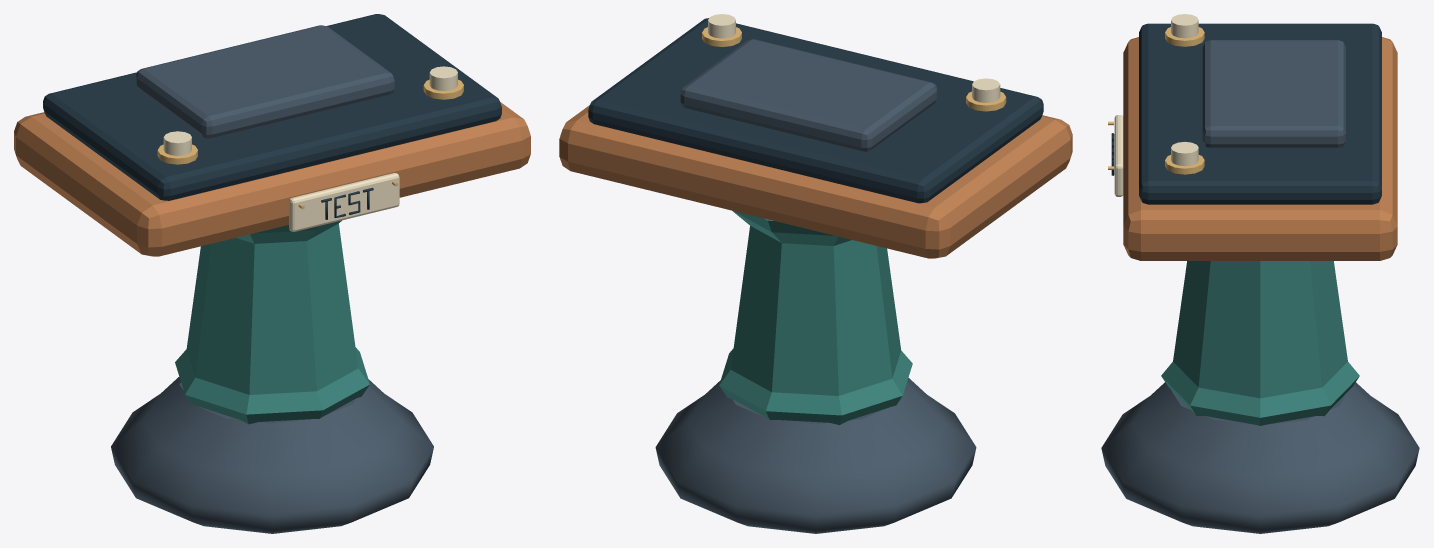
3 views of the same model, side by side, from view 1: azimuth 30°, elevation 25°; view 2: azimuth 150°, elevation 25°; view 3: azimuth 270°, elevation 25° (orthographic).
Parts seen in each view (by area): view 1: PR029 workshop surfaces; view 2: PR029 workshop surfaces; view 3: PR029 workshop surfaces.
Boxes of the visible parts, x1,y1,x2,y2 form: PR029 workshop surfaces: (14,14,530,533); PR029 workshop surfaces: (559,14,1072,533); PR029 workshop surfaces: (1101,14,1419,533).
Size of the model in its own units: 1.12 by 1.09 by 0.8.
